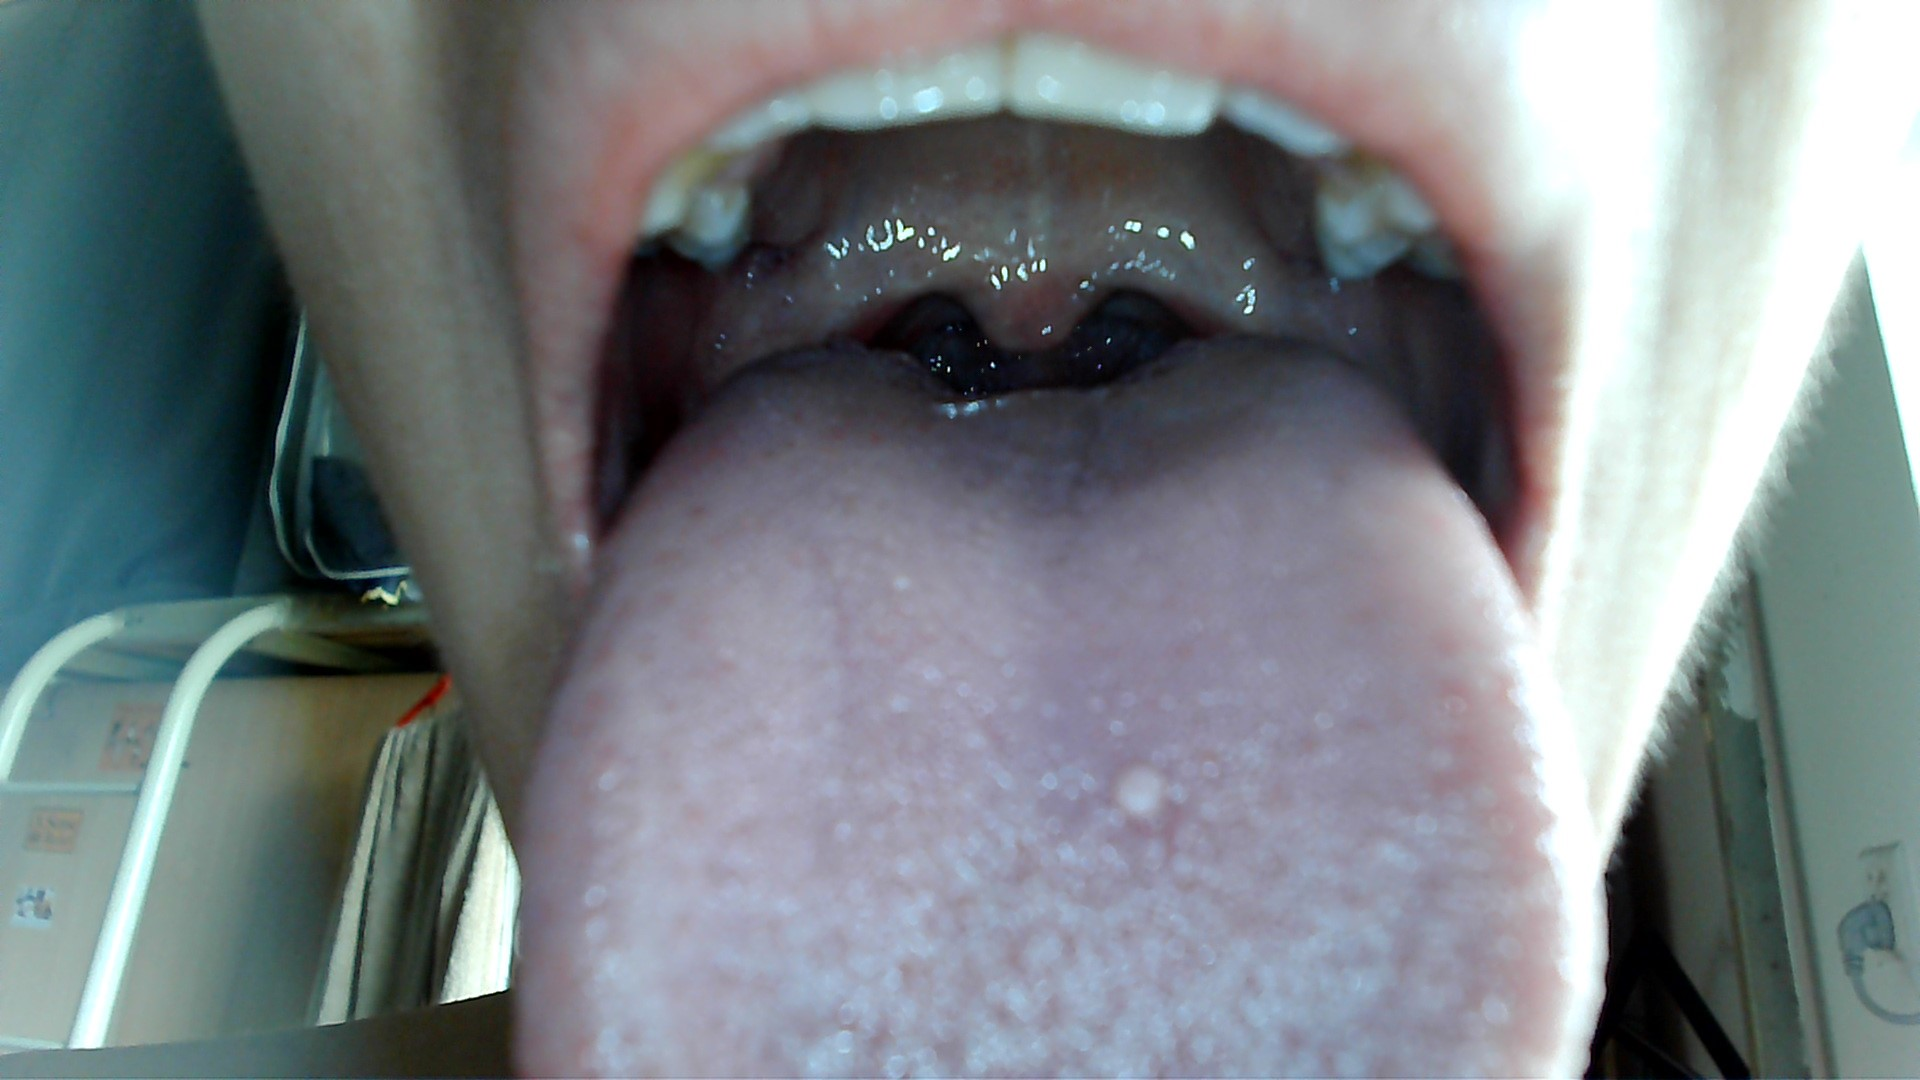throat: (1150, 224, 1298, 336), (790, 232, 914, 340)
